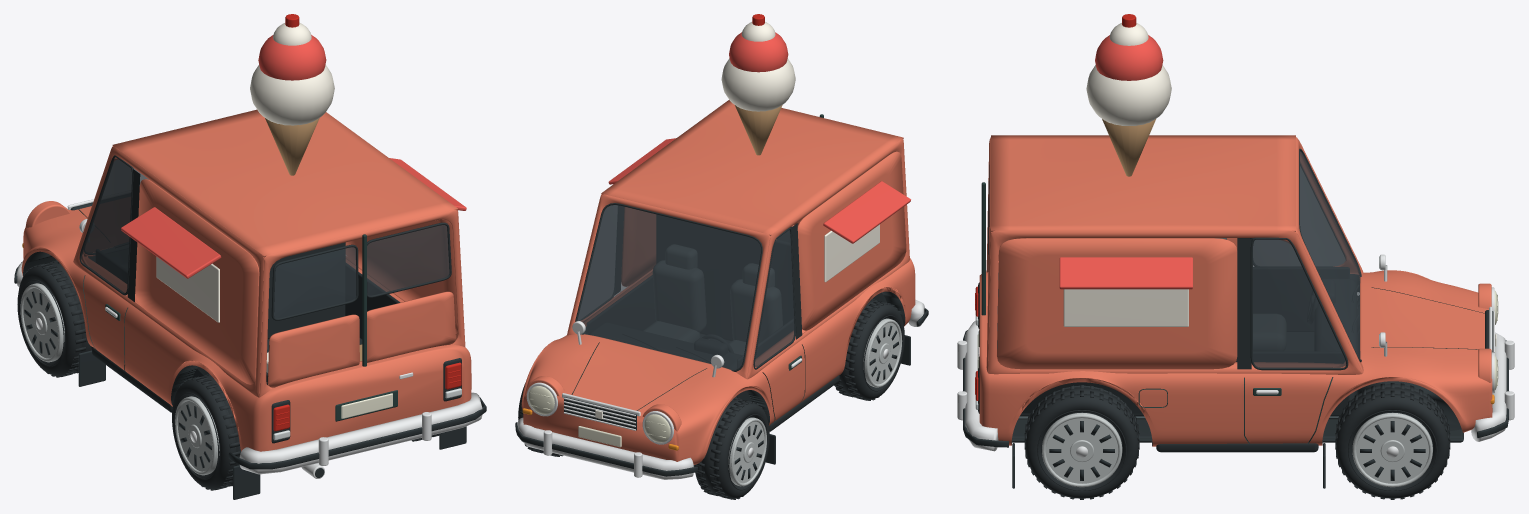
File: gelato.fbx
The picture shows the model from 3 angles, left to right: view 1: azimuth 30°, elevation 25°; view 2: azimuth 150°, elevation 25°; view 3: azimuth 270°, elevation 25°; orthographic projection. The views are drawn at different scales.
Visible parts, largest first — view 1: Body, Wheel_FL_Mesh, Wheel_RL_Mesh; view 2: Body, Wheel_FL_Mesh, Wheel_RL_Mesh; view 3: Body, Wheel_FR_Mesh, Wheel_RR_Mesh.
Part boxes in pixels (x1,y1,x2,y2): Body: [14, 14, 486, 499]; Wheel_FL_Mesh: [17, 260, 92, 377]; Wheel_RL_Mesh: [172, 374, 240, 490]; Body: [515, 14, 928, 479]; Wheel_FL_Mesh: [694, 397, 769, 499]; Wheel_RL_Mesh: [834, 299, 904, 400]; Body: [957, 14, 1514, 488]; Wheel_FR_Mesh: [1335, 383, 1450, 499]; Wheel_RR_Mesh: [1024, 385, 1139, 499].
Bounding box in the file's own units: 229 × 331 × 391.
